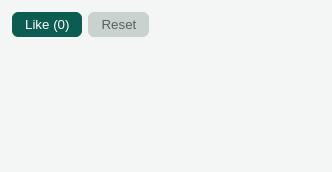
Test case: Task 3 (easy) · LikeButton counts clicks, Reset sets it back to 0, and each button keeps its own count
The image size is (332, 172).
Later steps or results of the test are not shown.
Expected: the button "Reset" is disabled, top-left (88, 12), bottom-right (149, 37)
Click the button "Like (0)" at (47, 24), box top-left (12, 12), bottom-right (82, 37)
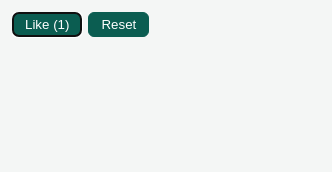
Click the button "Like (1)" at (47, 24), box top-left (12, 12), bottom-right (82, 37)
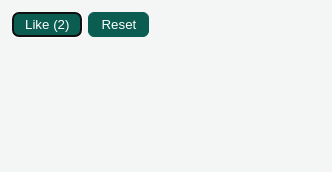
Click the button "Like (2)" at (47, 24), box top-left (12, 12), bottom-right (82, 37)
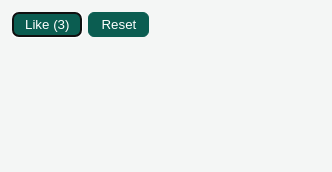
Now the button "Reset" is enabled
Now the button "Like (3)" is shown, box top-left (12, 12), bottom-right (82, 37)
Click the button "Reset" at (119, 24), box top-left (88, 12), bottom-right (149, 37)
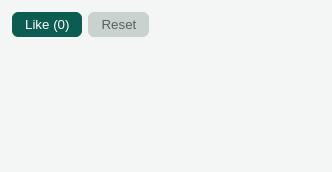
Now the button "Like (0)" is shown, box top-left (12, 12), bottom-right (82, 37)
Now the button "Reset" is disabled, box top-left (88, 12), bottom-right (149, 37)
